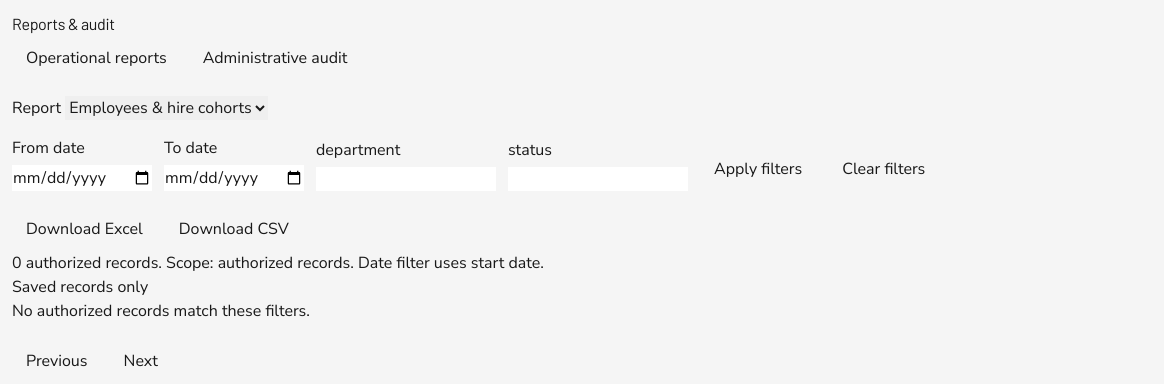
Test: audit rows display metadata but not raw before-after values
The width and height of the screenshot is (1164, 384).
Later steps or results of the test are not shown.
Click the button "Administrative audit". click: (275, 58)
box: [189, 36, 361, 80]
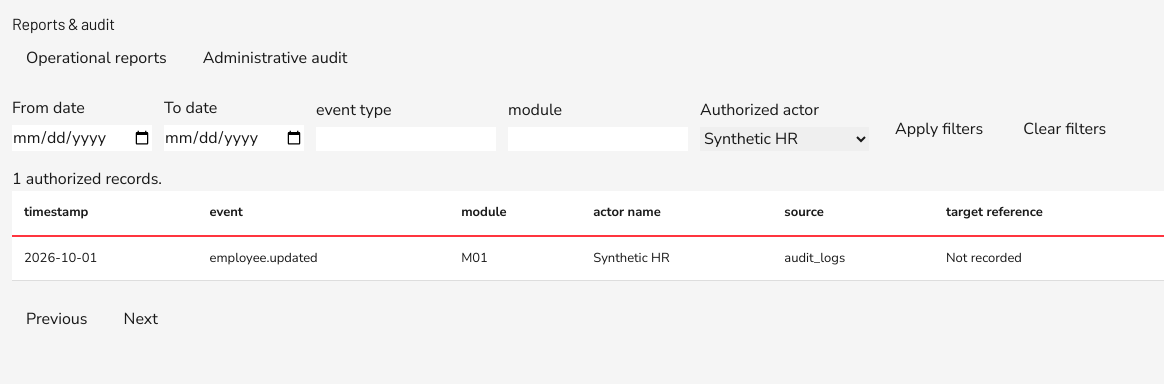
Expected: the text "Synthetic HR" is shown, [581, 236, 772, 280]
Expected: the text "employee.updated" is shown, [198, 236, 449, 280]
